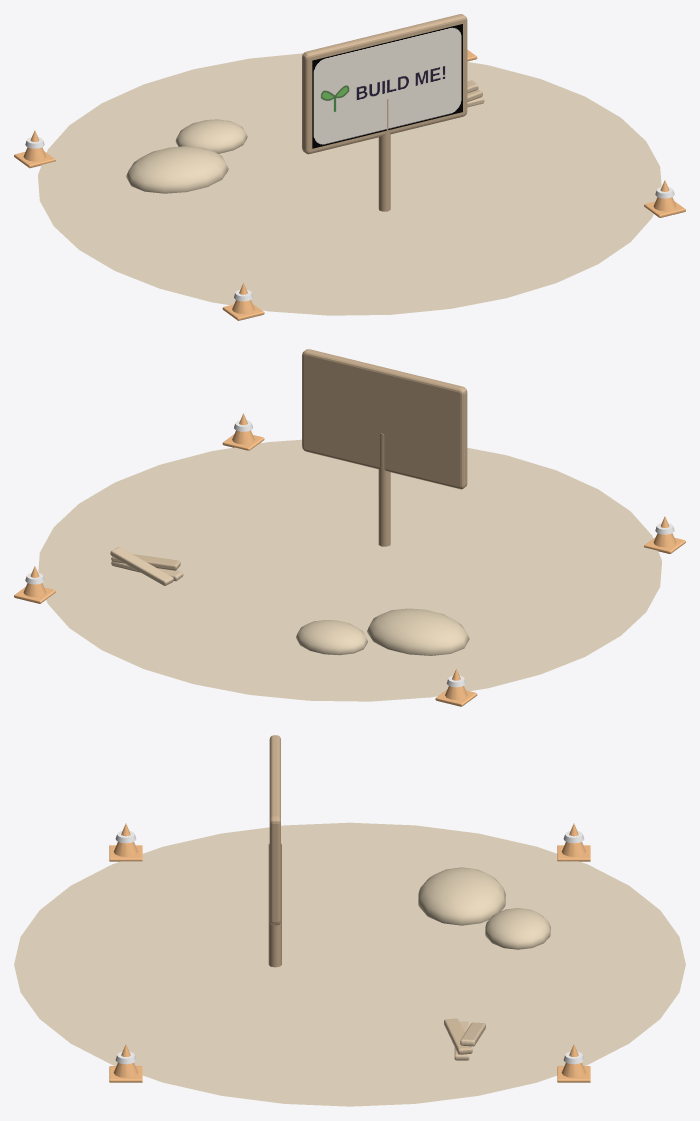
File: building_greenhouse_L00.glb
3 renders of one model, top to bottom at view 1: azimuth 30°, elevation 25°; view 2: azimuth 150°, elevation 25°; view 3: azimuth 270°, elevation 25°, orthographic. The views are drawn at different scales.
Visible parts, largest first — view 1: greenhouse_L0; view 2: greenhouse_L0; view 3: greenhouse_L0.
Boxes of the visible parts, box(x1,y1,x2,y2) form: greenhouse_L0: box(14, 14, 685, 320); greenhouse_L0: box(14, 349, 685, 706); greenhouse_L0: box(14, 735, 685, 1106).
Bounding box in the file's own units: 18 × 6.1 × 18.
Materials: 8 (1 with a texture image).
